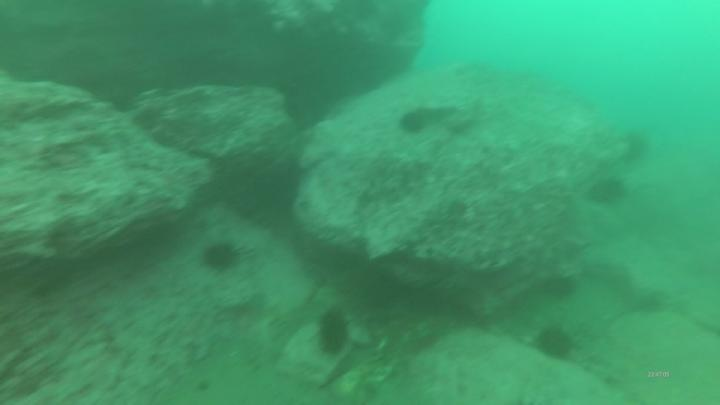echinus: (313, 308, 355, 358), (201, 238, 244, 274), (536, 326, 580, 361), (544, 270, 580, 304), (621, 129, 654, 163), (591, 173, 625, 206), (107, 84, 140, 115), (398, 109, 430, 138)
